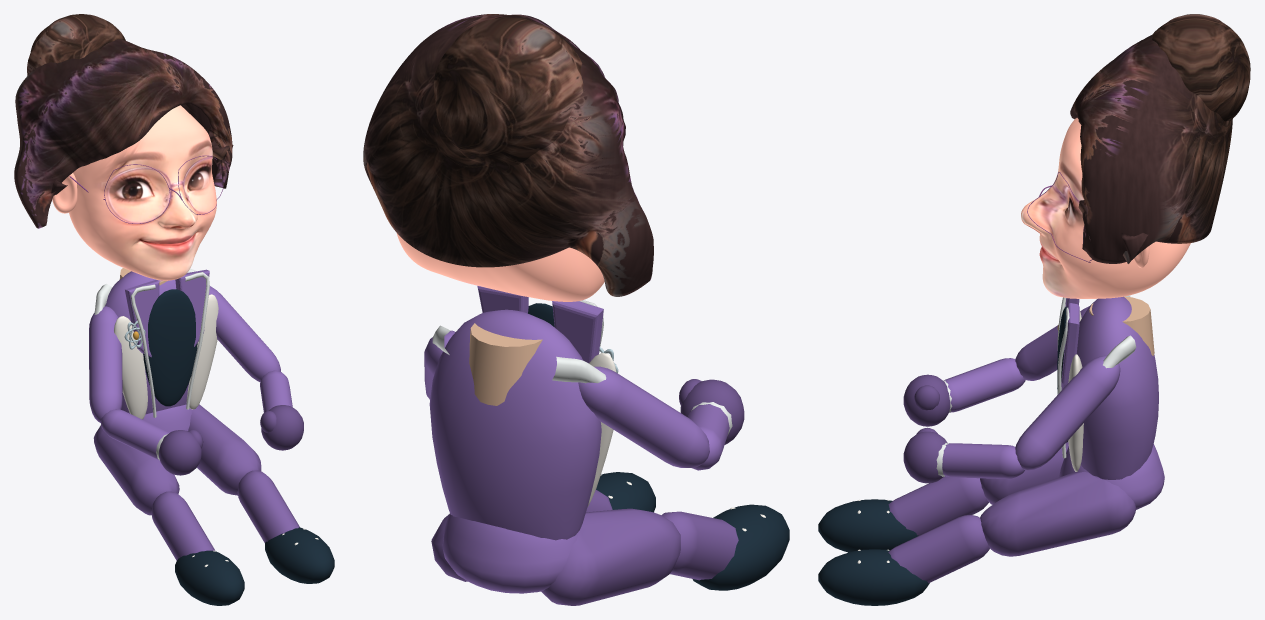
File: research.glb
The picture shows the model from 3 angles, left to right: view 1: azimuth 30°, elevation 25°; view 2: azimuth 150°, elevation 25°; view 3: azimuth 270°, elevation 25°; orthographic projection. The views are drawn at different scales.
Visible parts, largest first — view 1: Driver_research, PortraitHair_research, PortraitVolumeFace, UpperArm_L, UpperArm_R, Forearm_L, Hand_L, Hand_R, Forearm_R, PortraitEar_-1; view 2: Driver_research, PortraitHair_research, UpperArm_L, PortraitVolumeFace, Hand_L, Forearm_L, UpperArm_R; view 3: Driver_research, PortraitHair_research, PortraitVolumeFace, UpperArm_R, Forearm_R, Forearm_L, Hand_L, Hand_R, UpperArm_L.
Part boxes in pixels (left/top/right/bottom): Driver_research: left=93, top=268, right=334, bottom=605; PortraitHair_research: left=14, top=14, right=233, bottom=228; PortraitVolumeFace: left=69, top=105, right=216, bottom=280; UpperArm_L: left=89, top=306, right=122, bottom=422; UpperArm_R: left=209, top=286, right=280, bottom=382; Forearm_L: left=100, top=409, right=169, bottom=460; Hand_L: left=159, top=429, right=203, bottom=475; Hand_R: left=260, top=405, right=303, bottom=450; Forearm_R: left=260, top=370, right=292, bottom=412; PortraitEar_-1: left=52, top=173, right=77, bottom=213; Driver_research: left=429, top=286, right=789, bottom=605; PortraitHair_research: left=363, top=14, right=653, bottom=296; UpperArm_L: left=578, top=366, right=709, bottom=467; PortraitVolumeFace: left=396, top=233, right=604, bottom=301; Hand_L: left=679, top=379, right=744, bottom=444; Forearm_L: left=688, top=402, right=732, bottom=470; UpperArm_R: left=424, top=330, right=455, bottom=399; Driver_research: left=818, top=295, right=1164, bottom=605; PortraitHair_research: left=1070, top=14, right=1250, bottom=263; PortraitVolumeFace: left=1021, top=118, right=1190, bottom=298; UpperArm_R: left=1015, top=355, right=1120, bottom=470; Forearm_R: left=936, top=443, right=1024, bottom=478; Forearm_L: left=943, top=358, right=1025, bottom=412; Hand_L: left=903, top=374, right=950, bottom=426; Hand_R: left=903, top=427, right=947, bottom=483; UpperArm_L: left=1015, top=306, right=1089, bottom=380.
Bounding box in the file's own units: 1.32 × 2.92 × 2.12.
Materials: 13 (2 with a texture image).
